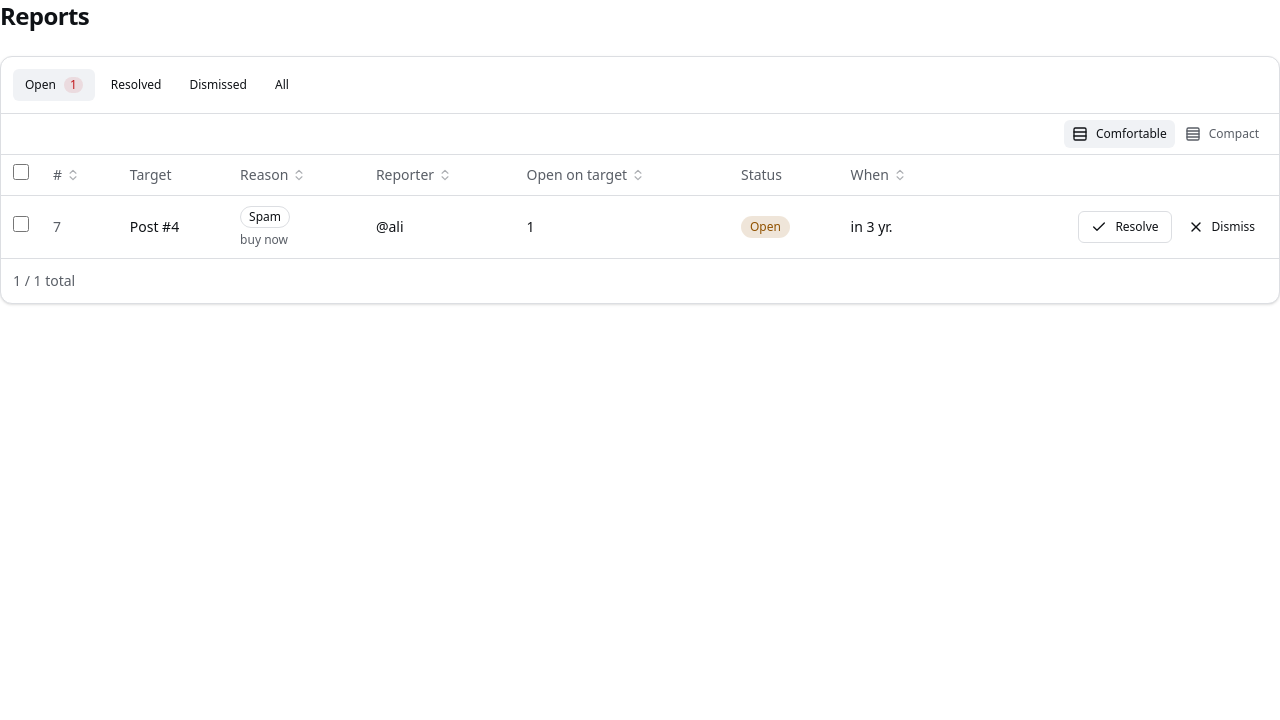
it: ReportsPage › explains a 409 conflict and refreshes
This screenshot has width=1280, height=720.
Click the button with aria-label "Dismiss #7".
click(1221, 226)  # box [1176,210,1267,242]
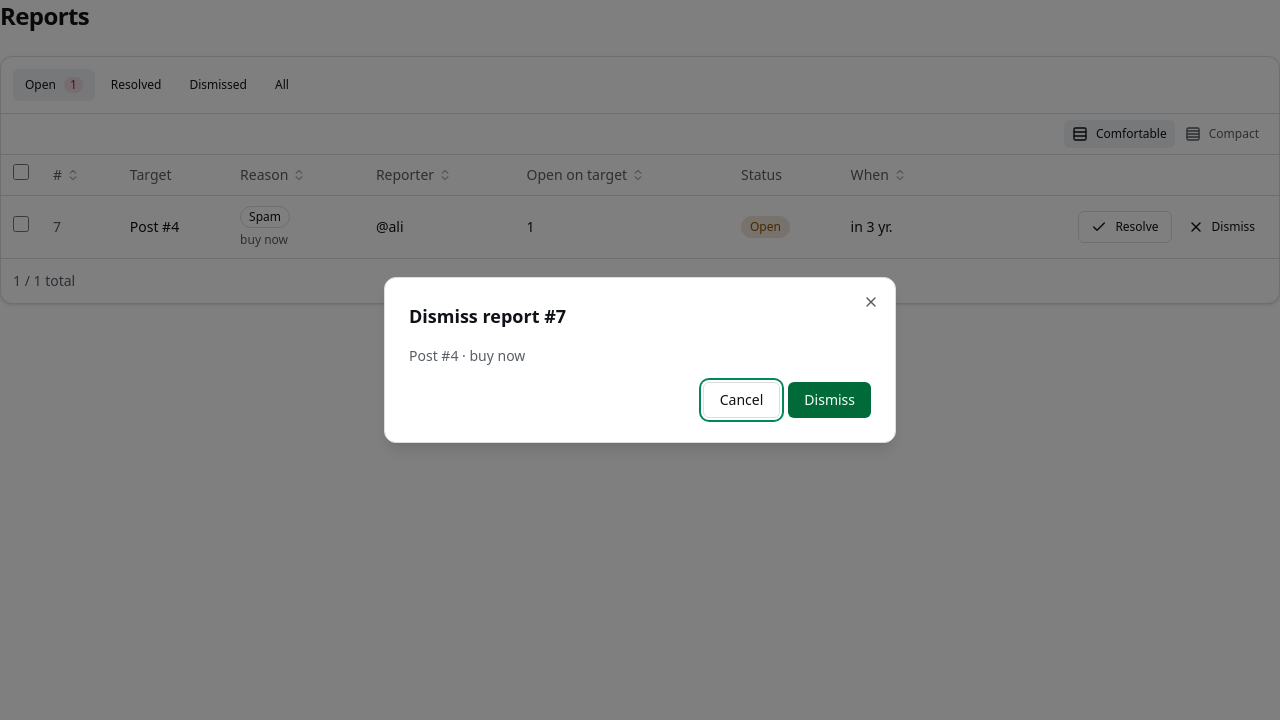
Click the button "Dismiss".
click(830, 400)  # box [788,382,871,418]
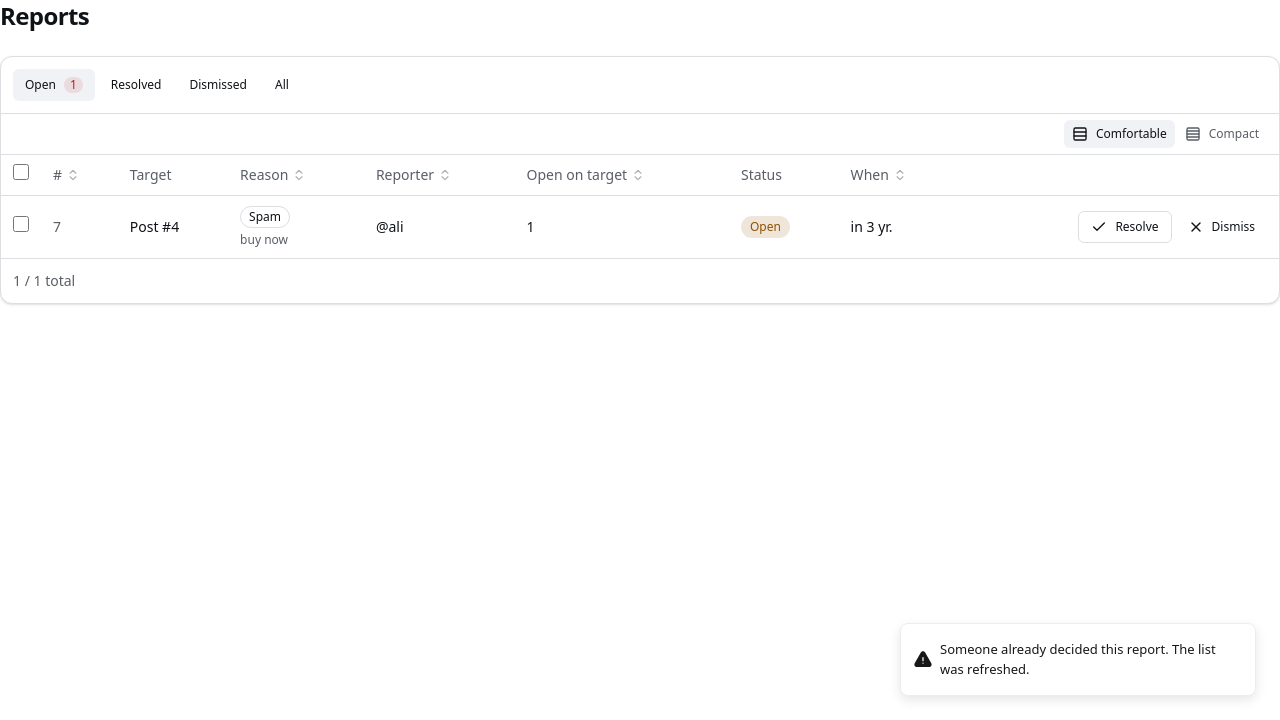
Now the text "Someone already decided this report. The list was refreshed." is shown, box [940,640,1239,679]
